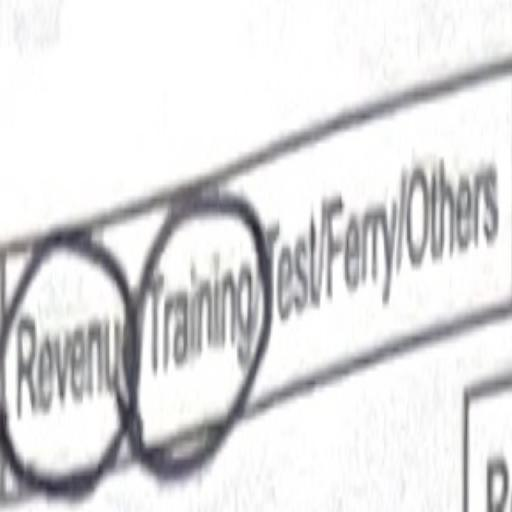check: (134, 166, 259, 512), (0, 185, 131, 512)
